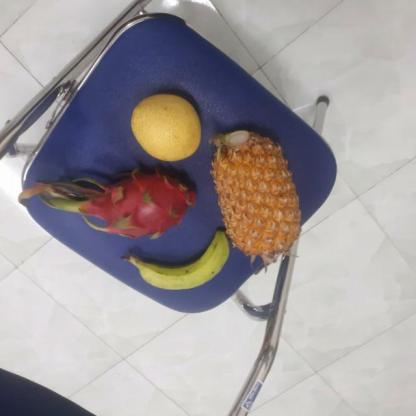banana: (138, 229, 234, 290)
pear: (129, 91, 205, 161)
pineapple: (208, 129, 303, 258)
pitaya: (82, 166, 200, 238)
